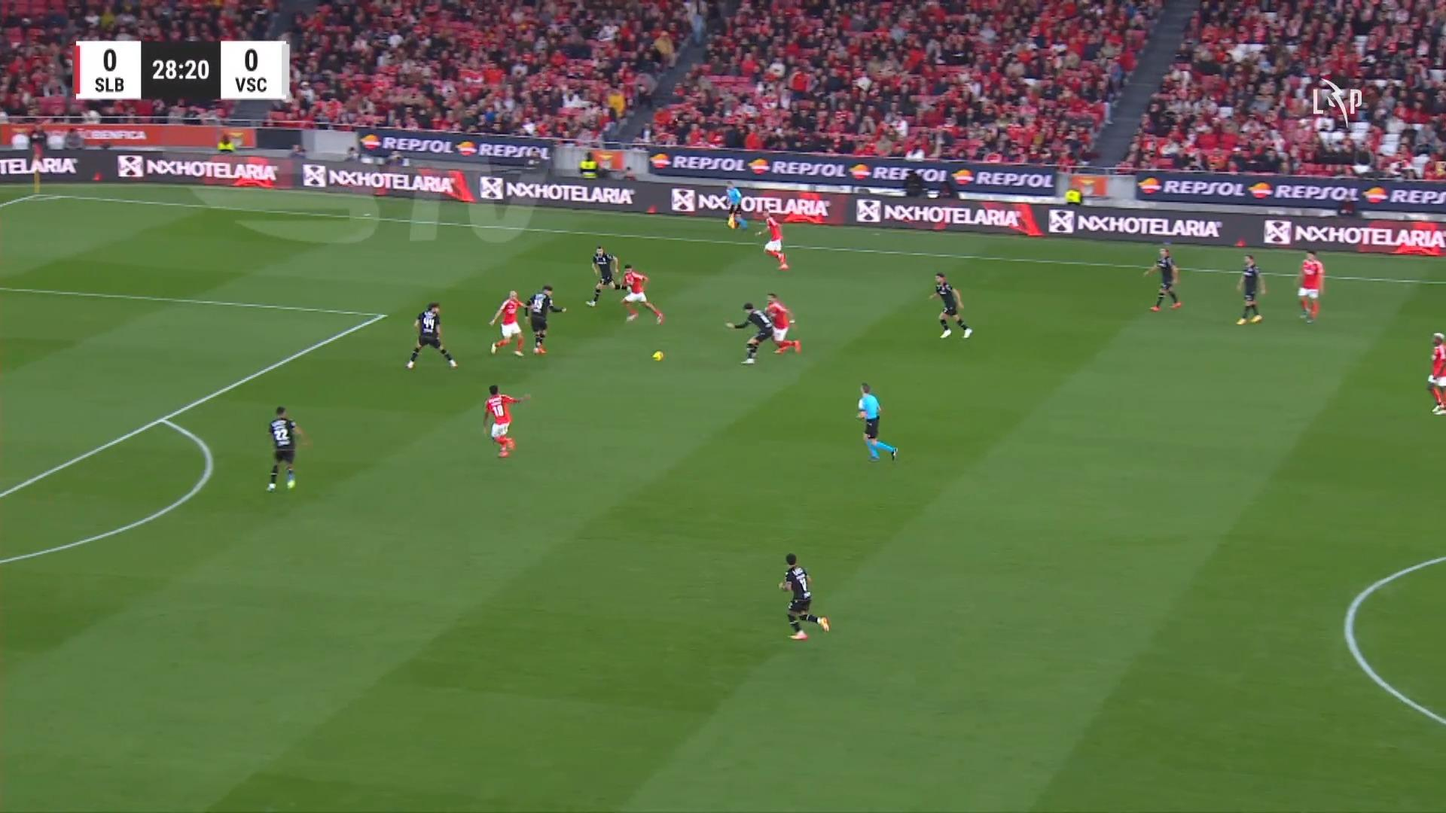ball: (651, 350, 664, 361)
player: (777, 552, 829, 640), (481, 383, 531, 458), (265, 405, 308, 492), (404, 302, 457, 369), (725, 301, 776, 364), (523, 284, 567, 355), (929, 271, 972, 339), (619, 262, 664, 324), (1142, 245, 1182, 312), (487, 290, 527, 357), (764, 292, 801, 355), (1234, 254, 1266, 324), (1295, 249, 1325, 322), (584, 245, 619, 306), (755, 209, 789, 270), (1426, 331, 1444, 415)
referee: (855, 381, 898, 462), (723, 180, 748, 230)
